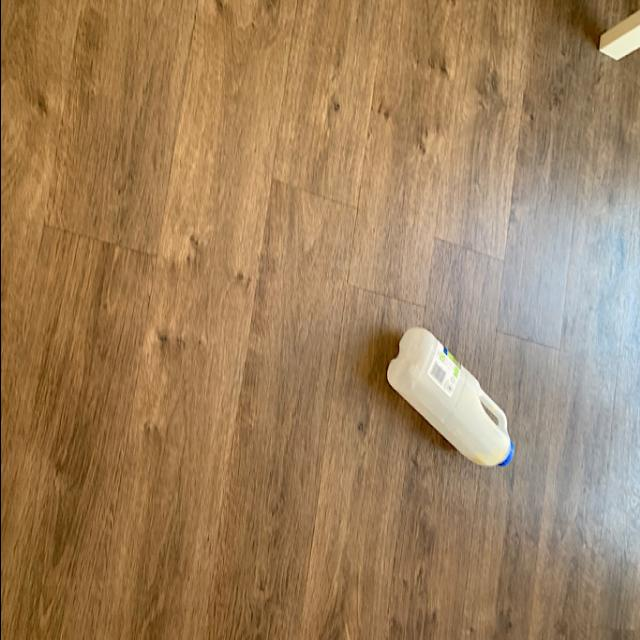HDPEM: (382, 324, 519, 476)
